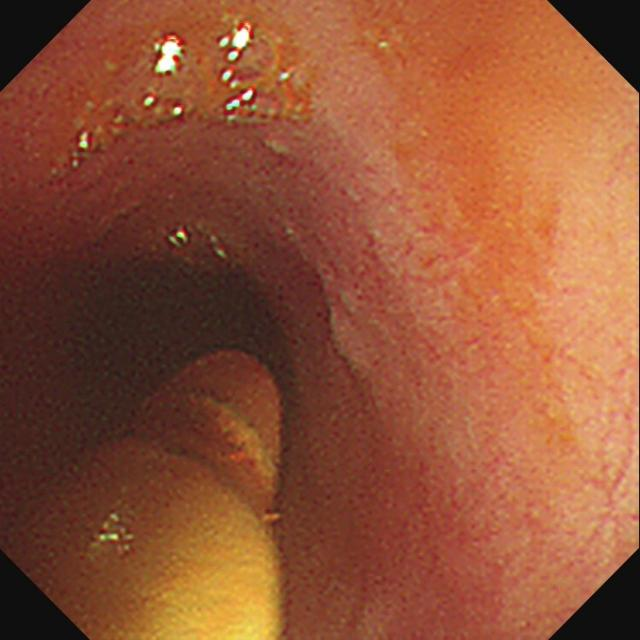K: (2, 340, 290, 640)
U: (218, 21, 257, 116), (156, 34, 187, 80), (72, 128, 94, 171), (144, 95, 182, 119)
